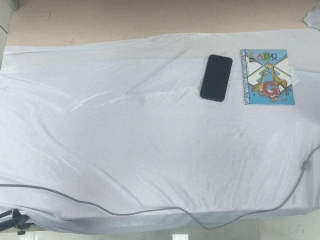book: (240, 49, 295, 106)
phone: (199, 54, 233, 102)
